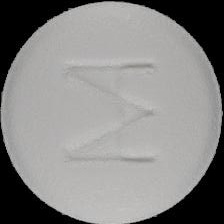0378-3856: (0, 0, 224, 224)
